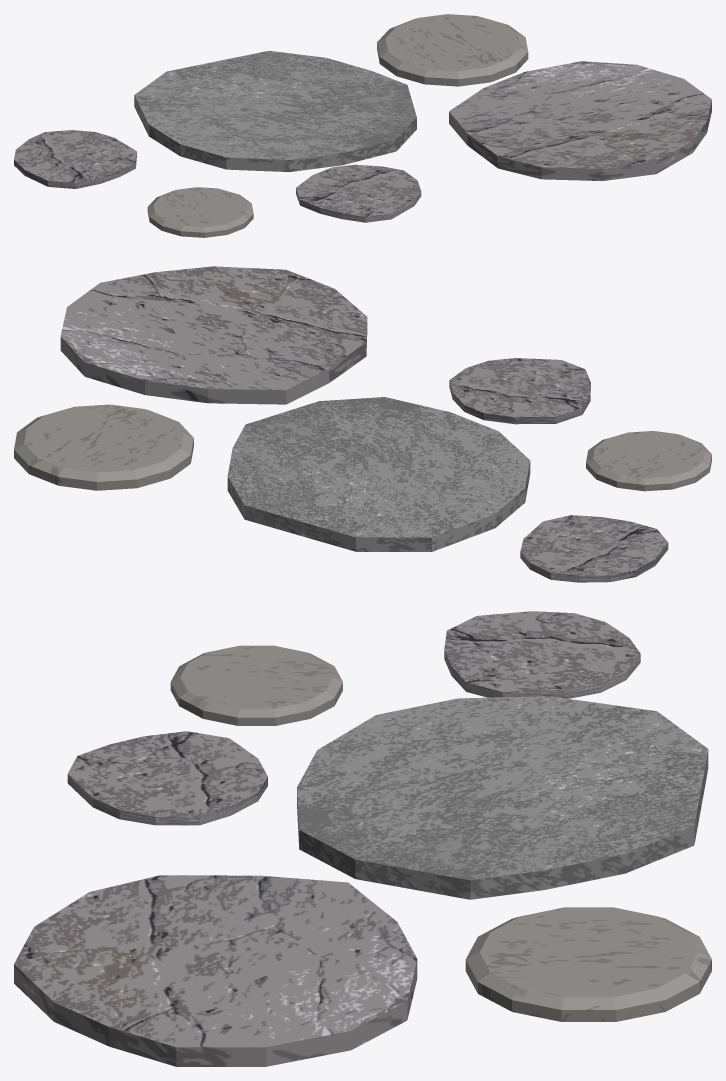
The model's file is Pathway stones .fbx.
3 renders of one model, top to bottom at view 1: azimuth 30°, elevation 25°; view 2: azimuth 150°, elevation 25°; view 3: azimuth 270°, elevation 25°, orthographic. The views are drawn at different scales.
Parts seen in each view (by area): view 1: Cylinder, Cylinder.002, Cylinder.001, Cylinder.003, Cylinder.005, Cylinder.004; view 2: Cylinder, Cylinder.002, Cylinder.001, Cylinder.005, Cylinder.003, Cylinder.004; view 3: Cylinder, Cylinder.002, Cylinder.001, Cylinder.003, Cylinder.005, Cylinder.004.
Boxes of the visible parts, x1,y1,x2,y2 form: Cylinder: (134, 51, 416, 171); Cylinder.002: (449, 61, 711, 180); Cylinder.001: (377, 14, 528, 86); Cylinder.003: (296, 164, 421, 222); Cylinder.005: (14, 130, 136, 188); Cylinder.004: (147, 187, 253, 237); Cylinder: (227, 397, 530, 551); Cylinder.002: (60, 266, 367, 404); Cylinder.001: (14, 404, 193, 490); Cylinder.005: (520, 515, 668, 582); Cylinder.003: (449, 358, 590, 424); Cylinder.004: (586, 431, 711, 491); Cylinder: (297, 696, 708, 899); Cylinder.002: (14, 875, 417, 1066); Cylinder.001: (465, 907, 711, 1021); Cylinder.003: (67, 731, 267, 825); Cylinder.005: (444, 611, 640, 698); Cylinder.004: (170, 645, 342, 725).
Bounding box in the file's own units: 531 × 345 × 14.79.
